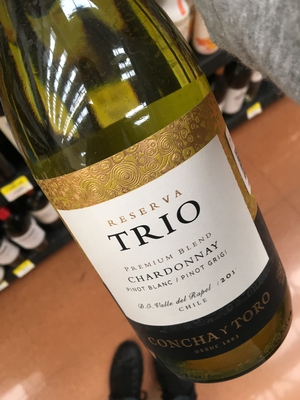trio chardonnay: (10, 24, 295, 368)
